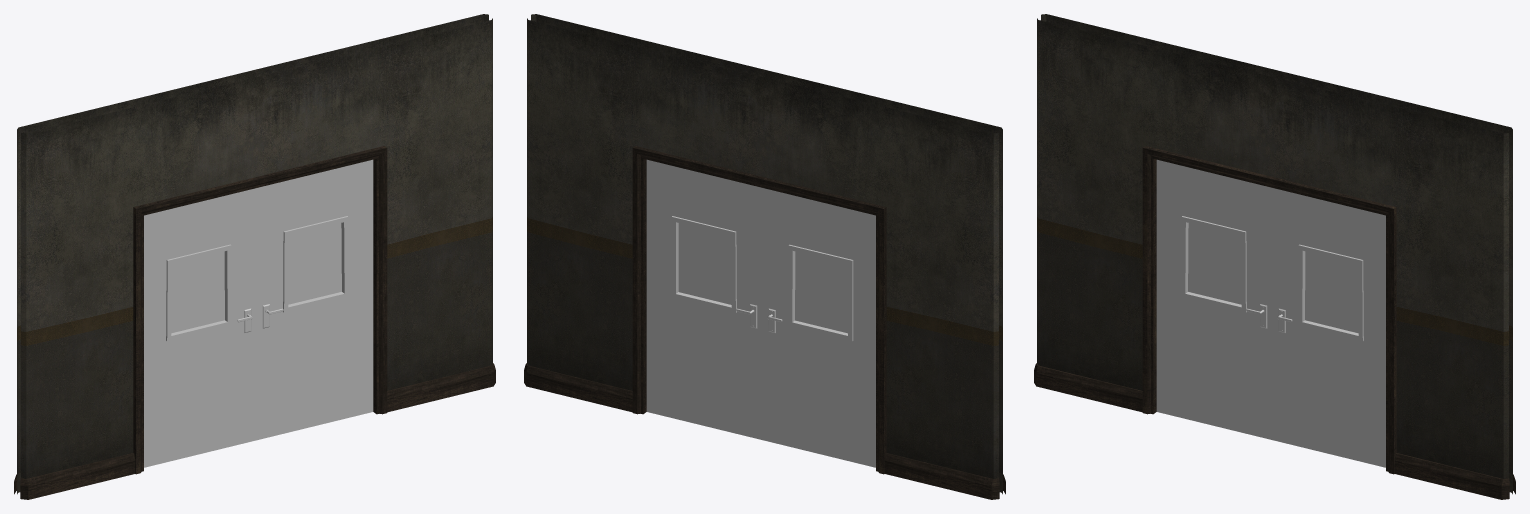
Rendered from doorway_2_wide.fbx.
The picture shows the model from 3 angles, left to right: view 1: azimuth 30°, elevation 25°; view 2: azimuth 150°, elevation 25°; view 3: azimuth 330°, elevation 25°; orthographic projection.
Parts seen in each view (by area): view 1: doorway_2_wide, double_door_4_piece_2, double_door_4_piece_1; view 2: doorway_2_wide, double_door_4_piece_2, double_door_4_piece_1; view 3: doorway_2_wide, double_door_4_piece_1, double_door_4_piece_2.
Boxes of the visible parts, <box> form: doorway_2_wide: <box>14,14,495,499</box>; double_door_4_piece_2: <box>257,159,373,440</box>; double_door_4_piece_1: <box>144,188,256,467</box>; doorway_2_wide: <box>524,14,1005,499</box>; double_door_4_piece_2: <box>646,159,762,440</box>; double_door_4_piece_1: <box>763,188,875,467</box>; doorway_2_wide: <box>1034,14,1515,499</box>; double_door_4_piece_1: <box>1156,159,1272,440</box>; double_door_4_piece_2: <box>1273,188,1385,467</box>.
Size of the model in its own units: 4.09 by 0.2 by 3.
